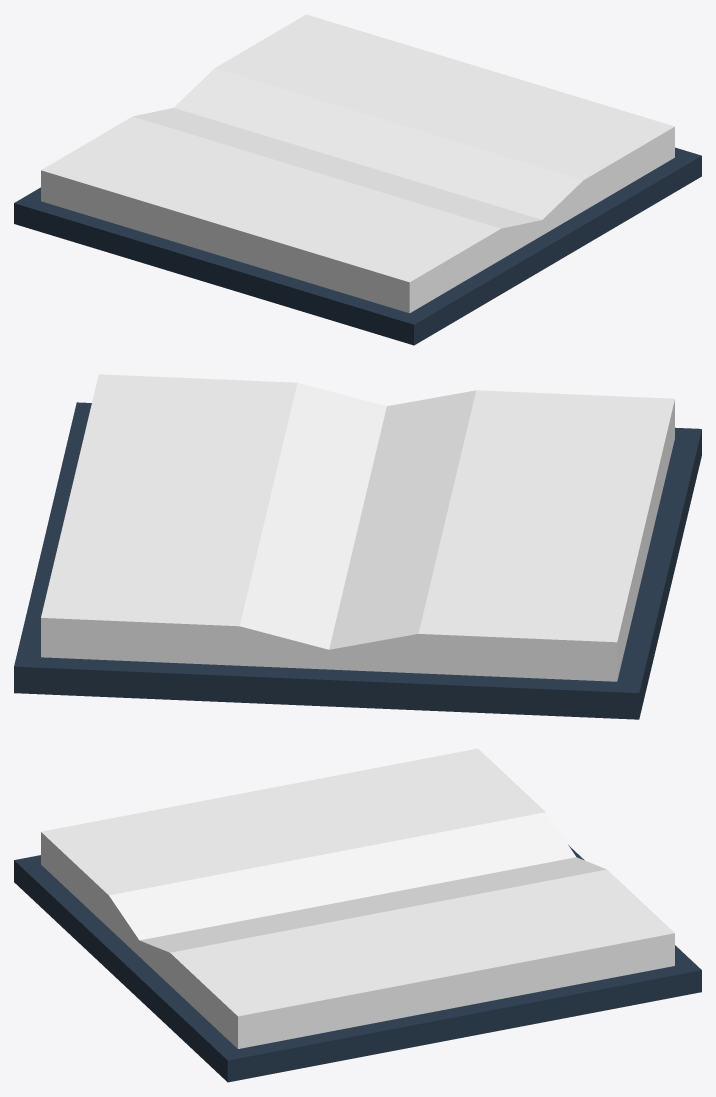
Rendered from Livro.fbx.
3 renders of one model, top to bottom at view 1: azimuth 30°, elevation 25°; view 2: azimuth 150°, elevation 25°; view 3: azimuth 270°, elevation 25°, orthographic. The views are drawn at different scales.
Visible parts, largest first — view 1: LivroAberto; view 2: LivroAberto; view 3: LivroAberto.
Part boxes in pixels (x1,y1,x2,y2): LivroAberto: (14, 14, 701, 345); LivroAberto: (14, 374, 701, 719); LivroAberto: (14, 748, 701, 1082).
Size of the model in its own units: 130 by 11.37 by 130.
1 material, 1 textured.
